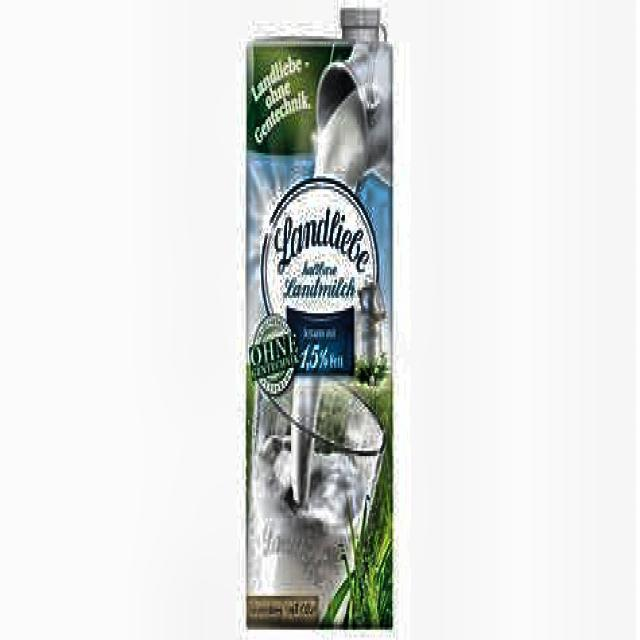cardboard: (244, 28, 394, 628)
